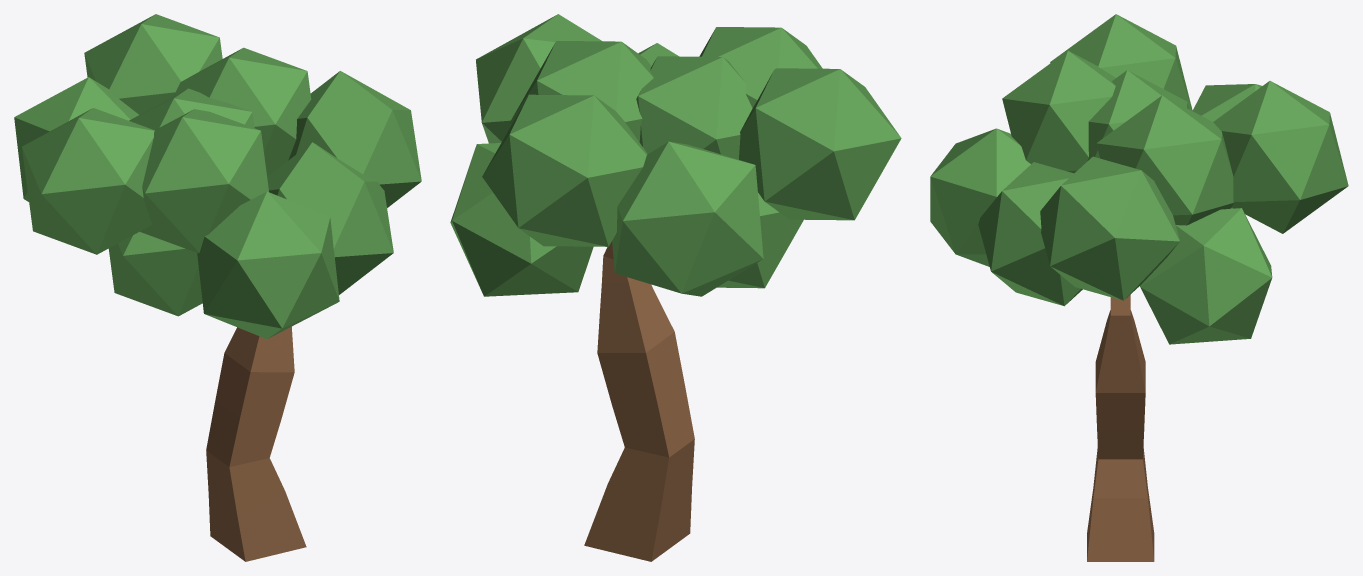
File: tree_city_oldenburg3.fbx
The picture shows the model from 3 angles, left to right: view 1: azimuth 30°, elevation 25°; view 2: azimuth 150°, elevation 25°; view 3: azimuth 270°, elevation 25°; orthographic projection. The views are drawn at different scales.
Visible parts, largest first — view 1: Icosphere.003; view 2: Icosphere.003; view 3: Icosphere.003.
Boxes of the visible parts, x1,y1,x2,y2 form: Icosphere.003: (14, 14, 421, 561); Icosphere.003: (450, 14, 901, 561); Icosphere.003: (930, 14, 1348, 561).
Size of the model in its own units: 295 by 351 by 296.
